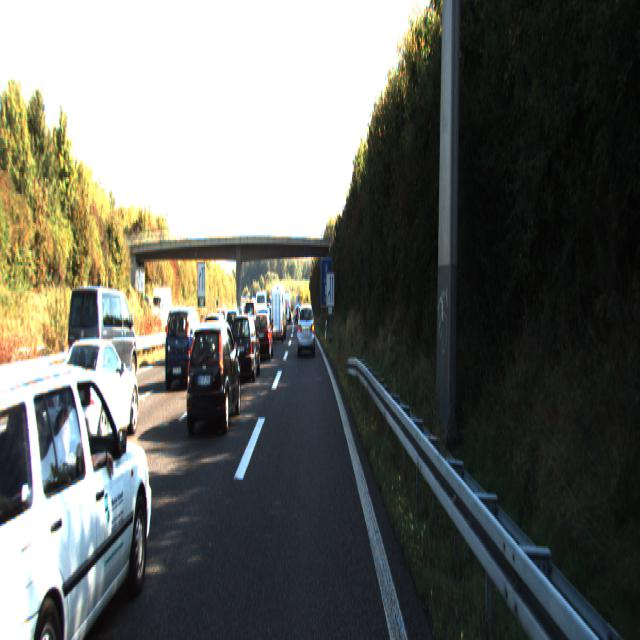Car: (0, 342, 161, 639), (44, 333, 141, 460), (67, 282, 139, 403), (184, 318, 242, 438), (163, 304, 206, 389), (228, 311, 260, 383), (252, 312, 274, 362), (297, 301, 315, 356), (270, 288, 285, 343)
